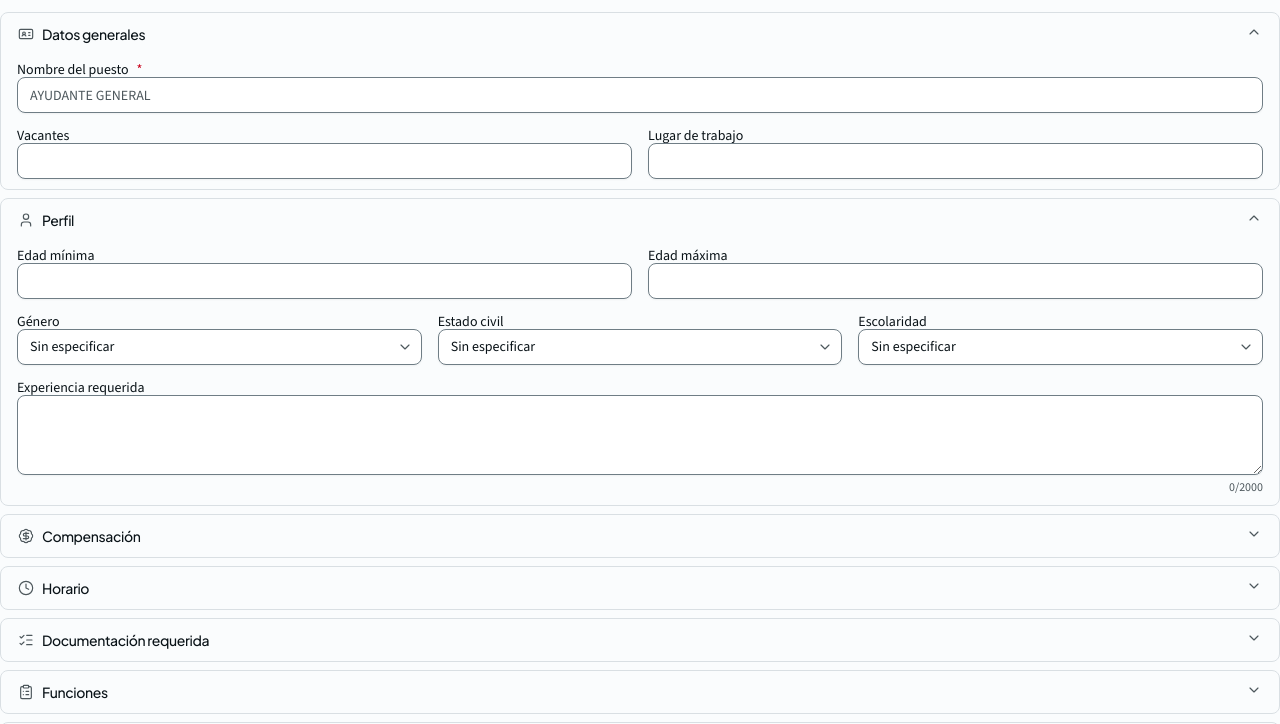
Scenario: 011 — PositionForm › aplica inputMode=numeric a los inputs numéricos
This screenshot has width=1280, height=724.
Click the button "Compensación" at {"x": 91, "y": 536}, box [17,515,1263,557]
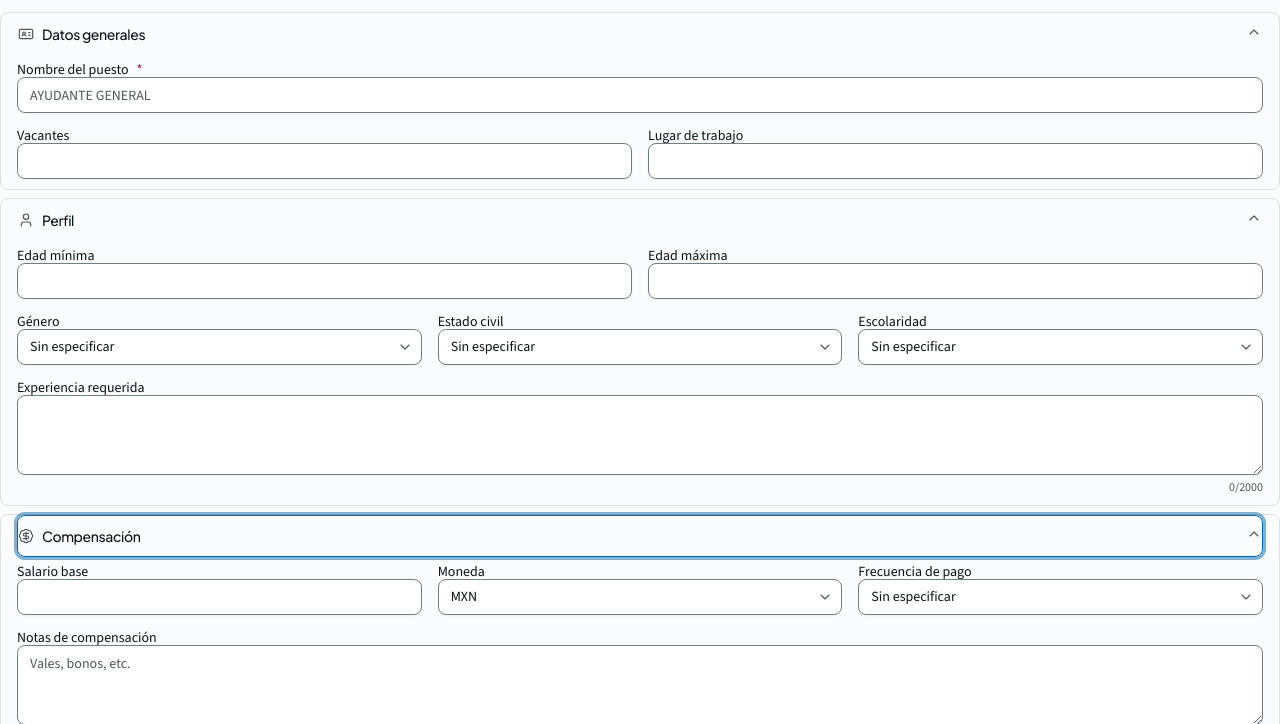
Expected: the number field labelled "Vacantes" is shown, [17,143,632,179]
Expected: the number field with id "salaryAmount" is shown, [17,579,422,615]
